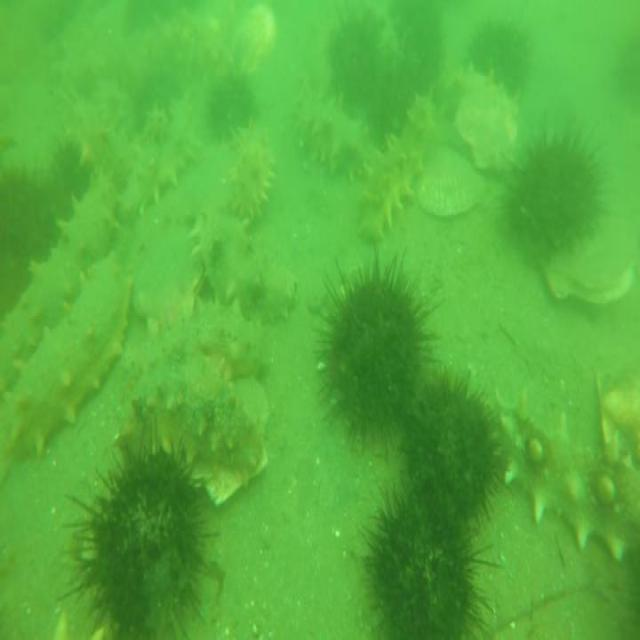echinus: (57, 436, 222, 640), (303, 245, 443, 449), (358, 458, 499, 640), (403, 356, 504, 528), (496, 122, 613, 266), (0, 166, 56, 284), (321, 6, 385, 109), (362, 49, 418, 147), (466, 13, 534, 90), (392, 6, 447, 90), (44, 136, 90, 227), (205, 71, 256, 147), (612, 33, 640, 117)
holothurian: (488, 387, 639, 571), (2, 253, 130, 461), (0, 170, 116, 390), (116, 359, 268, 485), (191, 204, 300, 332), (351, 93, 440, 237), (143, 292, 269, 382), (293, 73, 372, 178), (155, 68, 208, 193), (222, 120, 278, 226), (119, 108, 170, 222), (432, 65, 502, 112)
scallop: (537, 210, 640, 313), (132, 220, 214, 324), (453, 86, 523, 176), (591, 352, 640, 472), (413, 142, 487, 221), (184, 452, 276, 510), (229, 0, 277, 77)
